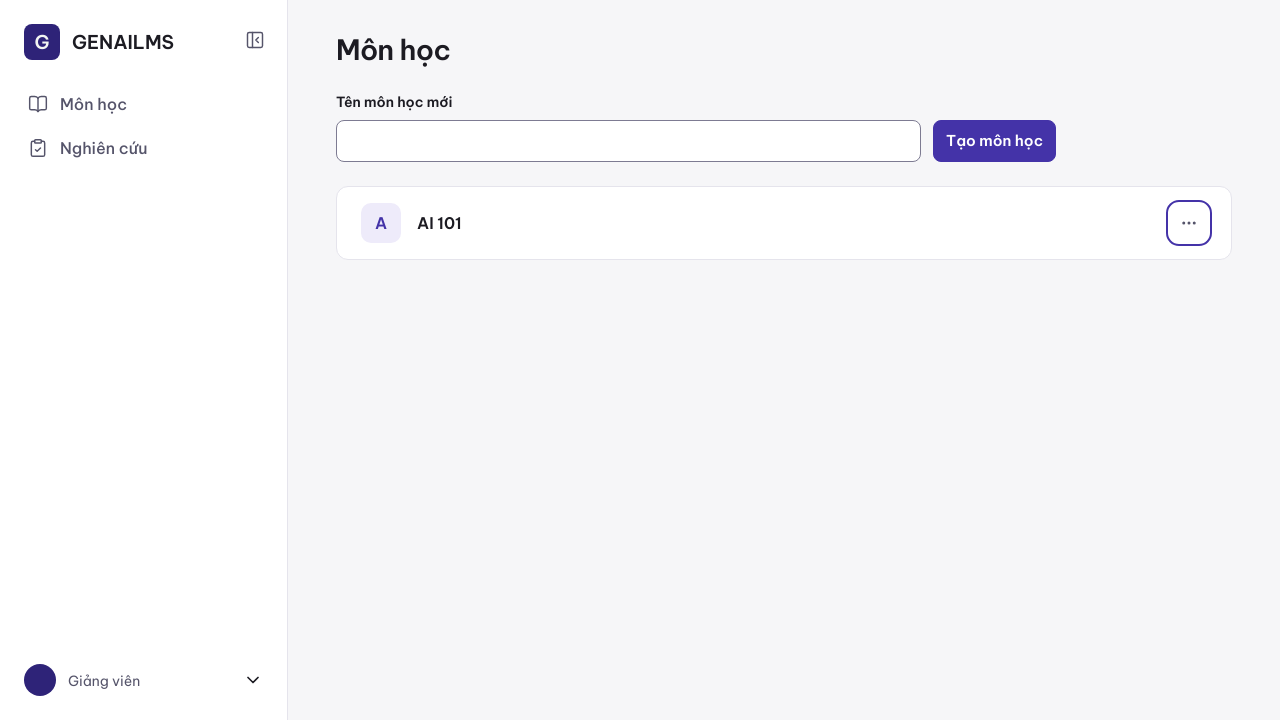
Test: CoursesPage - rename › renames from the menu and shows the new name
Press Enter
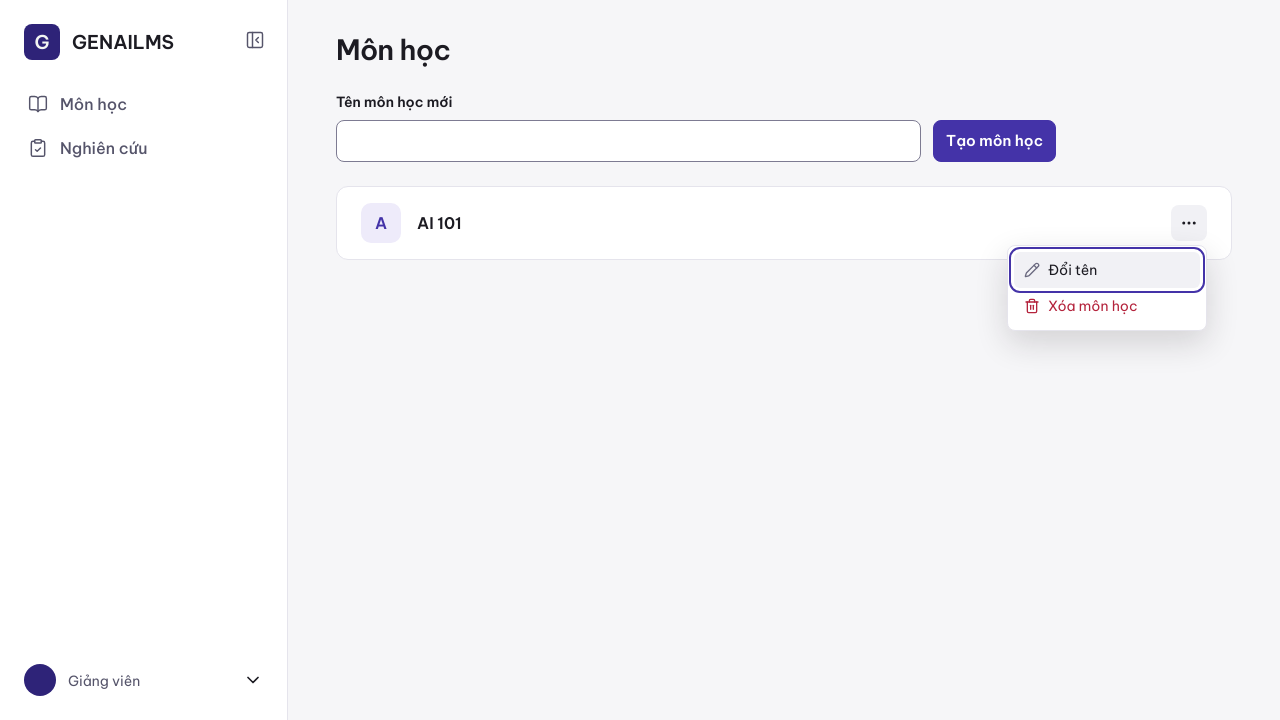
Click the menu item "Đổi tên" at (1107, 270), box [1014, 252, 1200, 288]
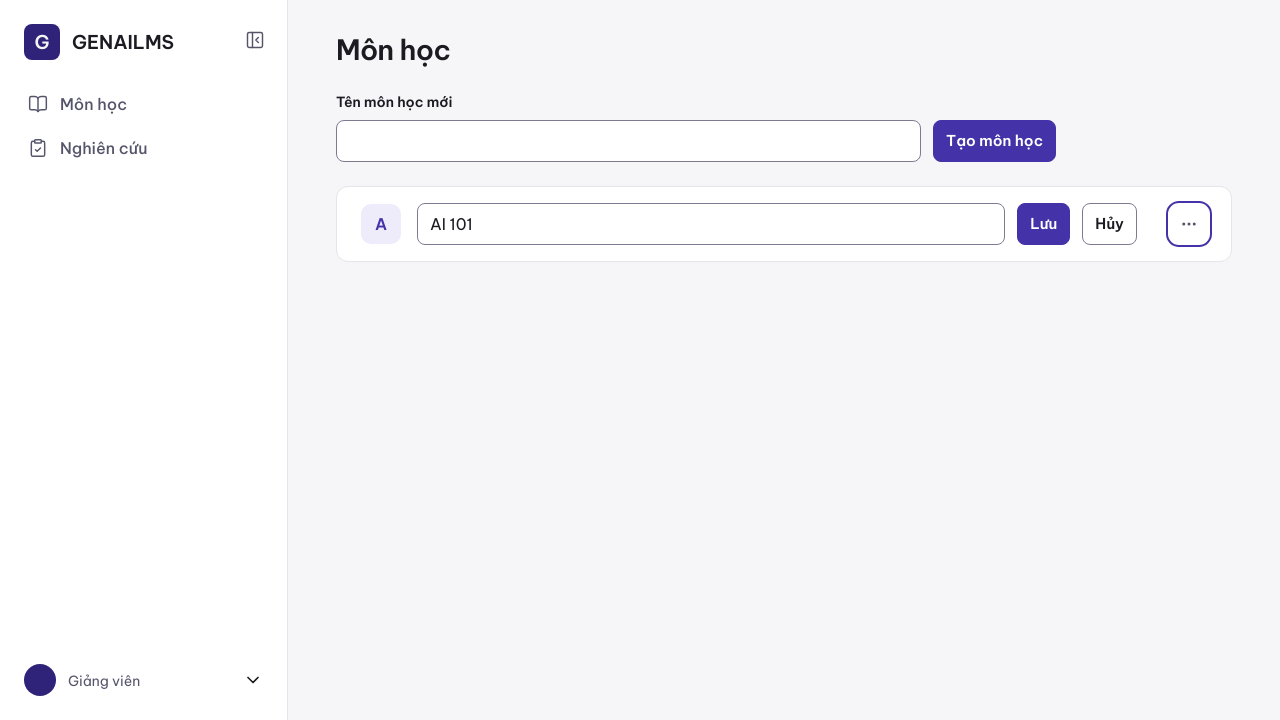
Replace the text in the field named "Tên môn học" with "Hệ điều hành" at (711, 224), box [417, 203, 1005, 245]
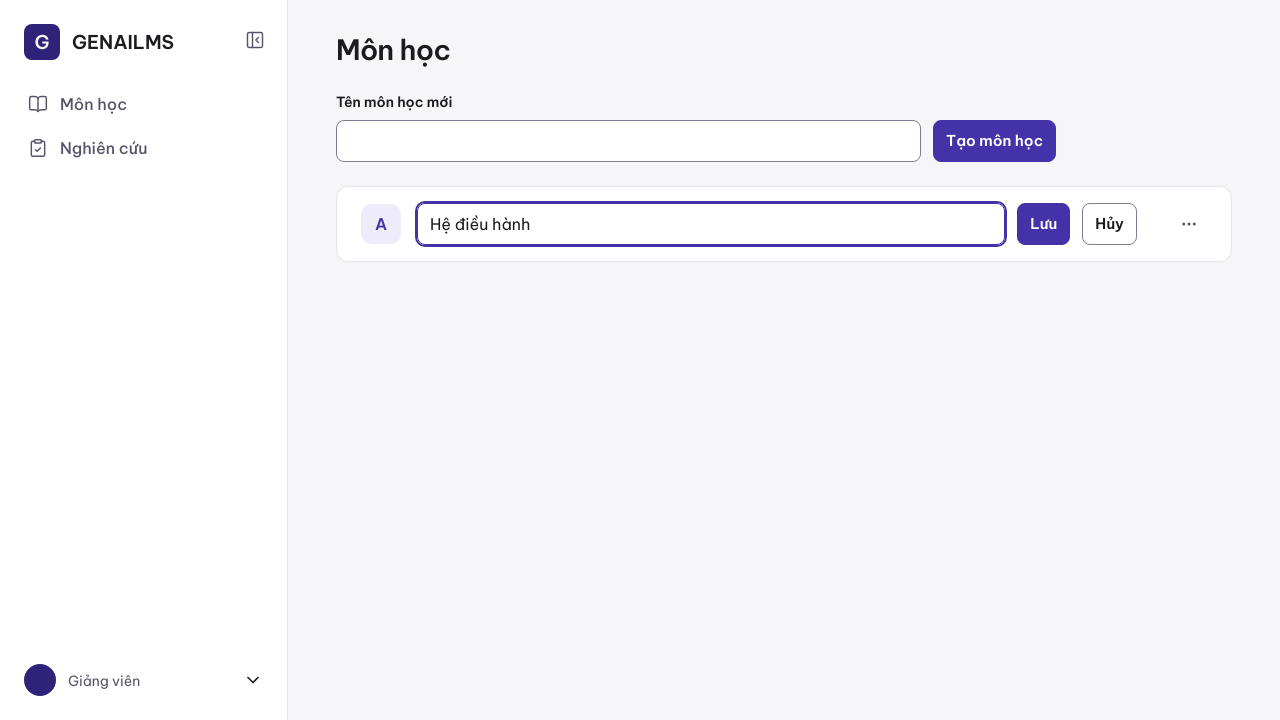
Click the button "Lưu" at (1044, 224), box [1017, 203, 1070, 245]
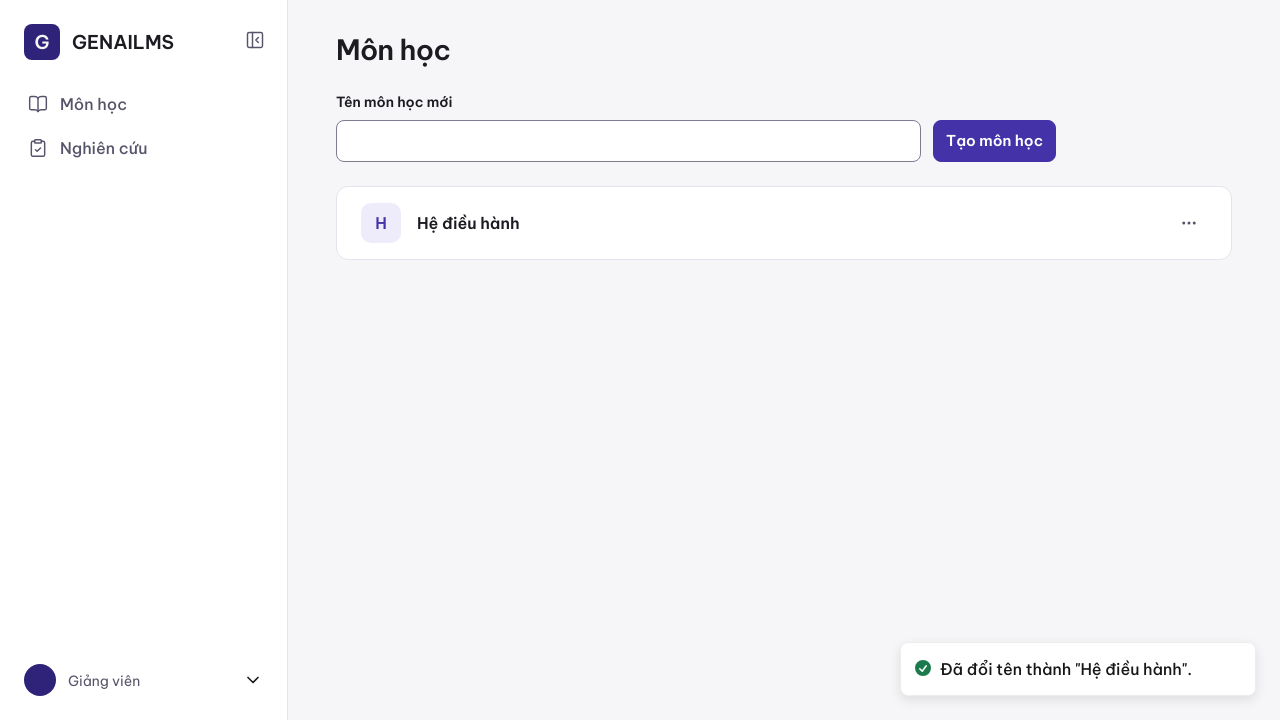
Result: the link "Hệ điều hành" is shown at [417, 213, 520, 233]
